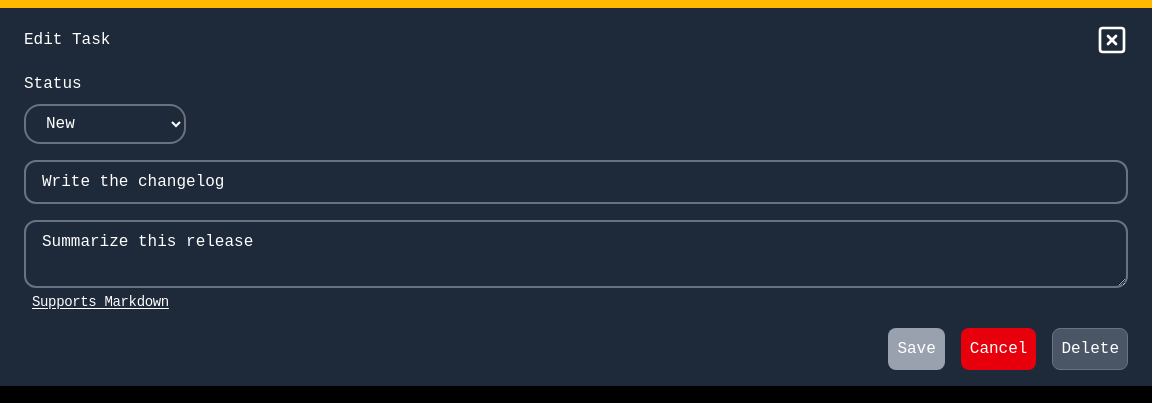
TaskForm — edit mode › toggles between the description textarea and its markdown preview
The width and height of the screenshot is (1152, 403).
Click the button "Supports Markdown".
click(100, 302)  # box [24,292,177,312]
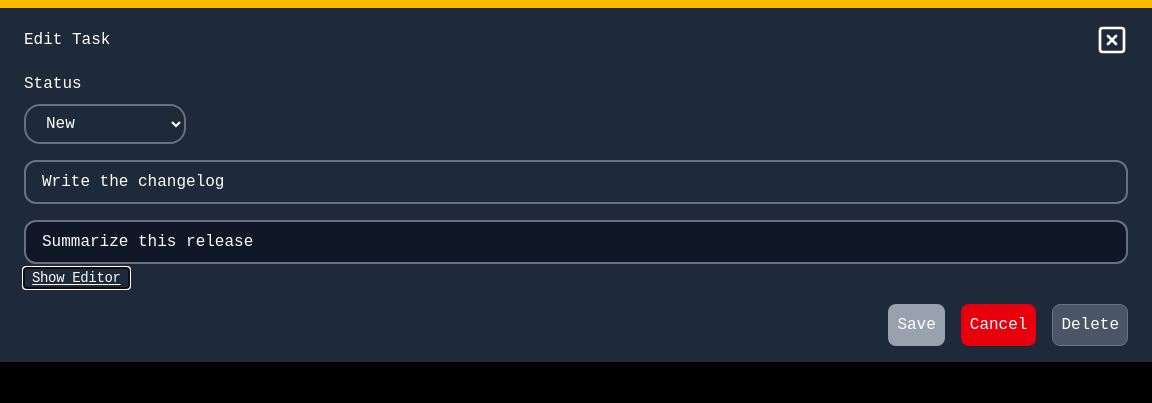
Expected: the text "Summarize this release" is shown, [42,233,253,251]
Click the button "Show Editor".
click(76, 278)  # box [24,268,129,288]
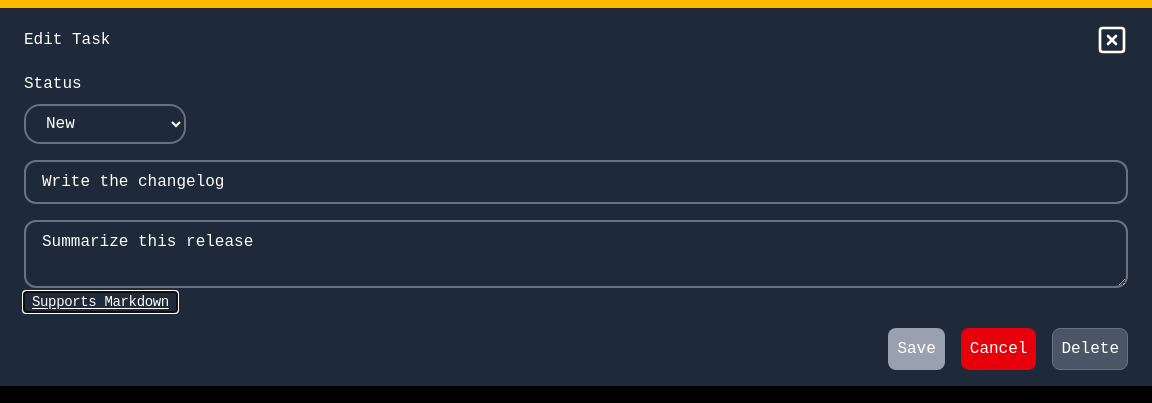
Expected: the text box showing "Summarize this release" is shown, [24,220,1128,288]
